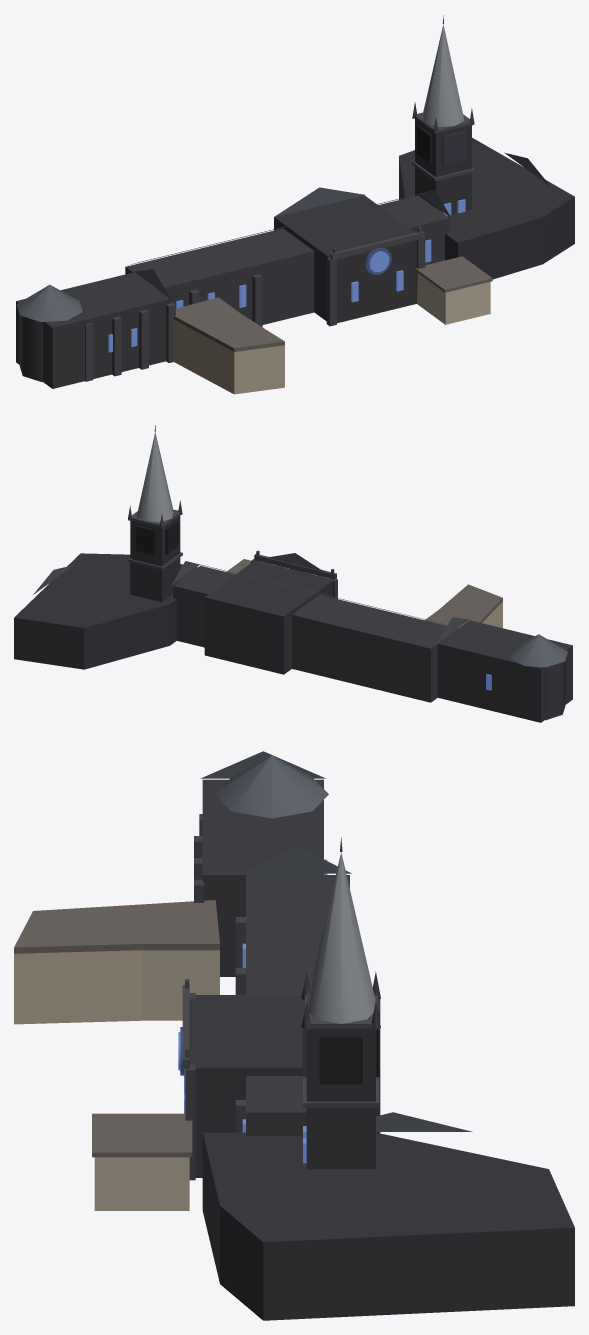
Rendered from eglise.glb.
The picture shows the model from 3 angles, top to bottom: view 1: azimuth 30°, elevation 25°; view 2: azimuth 150°, elevation 25°; view 3: azimuth 270°, elevation 25°; orthographic projection. The views are drawn at different scales.
Parts seen in each view (by area): view 1: Église du Sacré-Cœur (Clermont-Ferrand); view 2: Église du Sacré-Cœur (Clermont-Ferrand); view 3: Église du Sacré-Cœur (Clermont-Ferrand).
Boxes of the visible parts, <box> form: Église du Sacré-Cœur (Clermont-Ferrand): <box>16,15,574,394</box>; Église du Sacré-Cœur (Clermont-Ferrand): <box>14,425,572,722</box>; Église du Sacré-Cœur (Clermont-Ferrand): <box>14,751,574,1320</box>.
Bounding box in the file's own units: 123 × 50.6 × 64.8.
